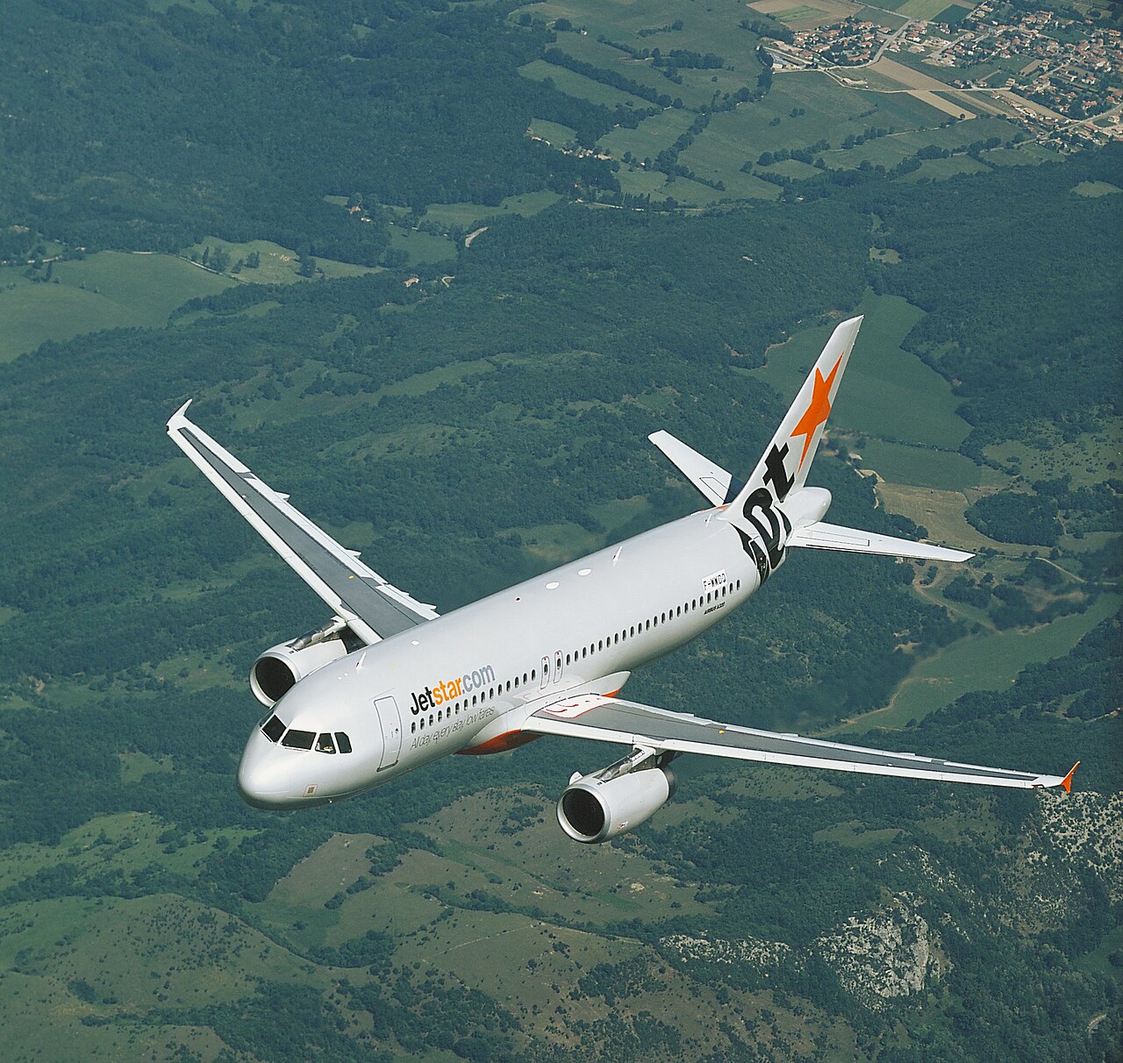aircraft: (164, 321, 1081, 856)
